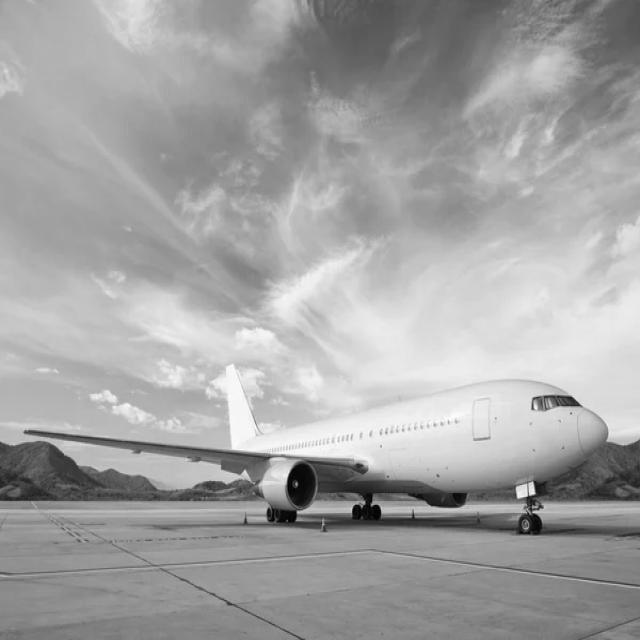Aircraft: (24, 361, 624, 559)
